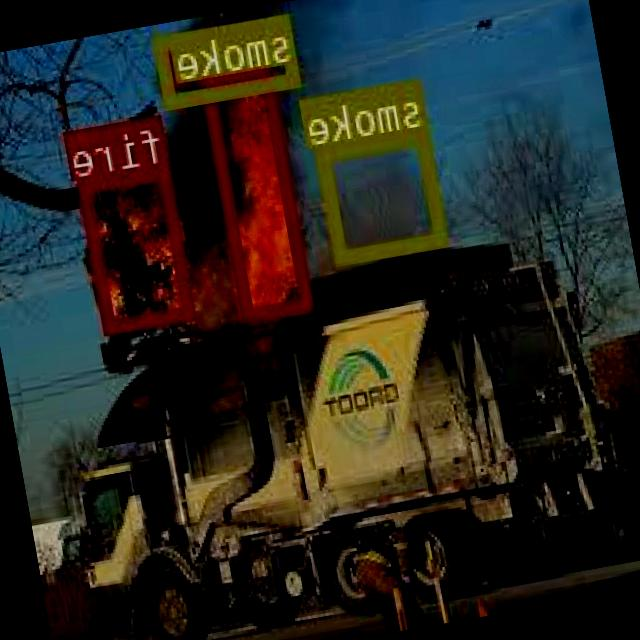fire: (204, 68, 314, 319), (80, 162, 198, 331)
smoke: (317, 124, 451, 261), (155, 10, 303, 105)
